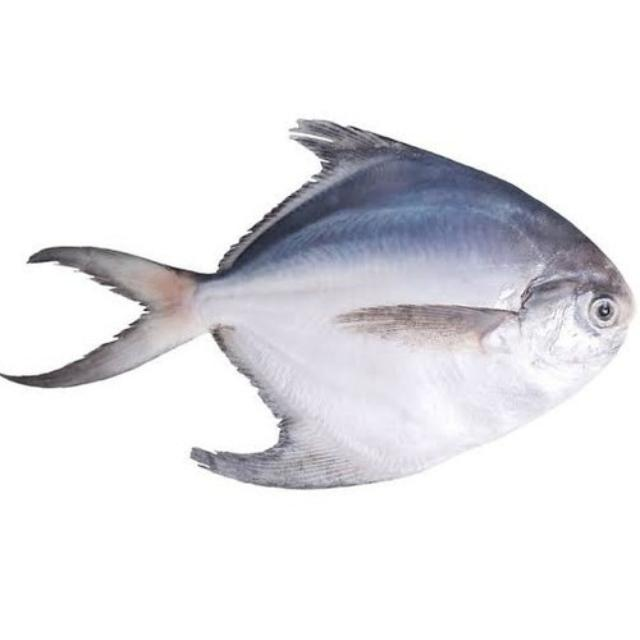Sirip Anal: (198, 317, 314, 427)
Sirip Dada: (323, 288, 539, 388)
Sirip Ekor: (1, 234, 218, 406)
Sirip Perut: (170, 429, 408, 518)
Sirip Punggung: (197, 104, 433, 268)
